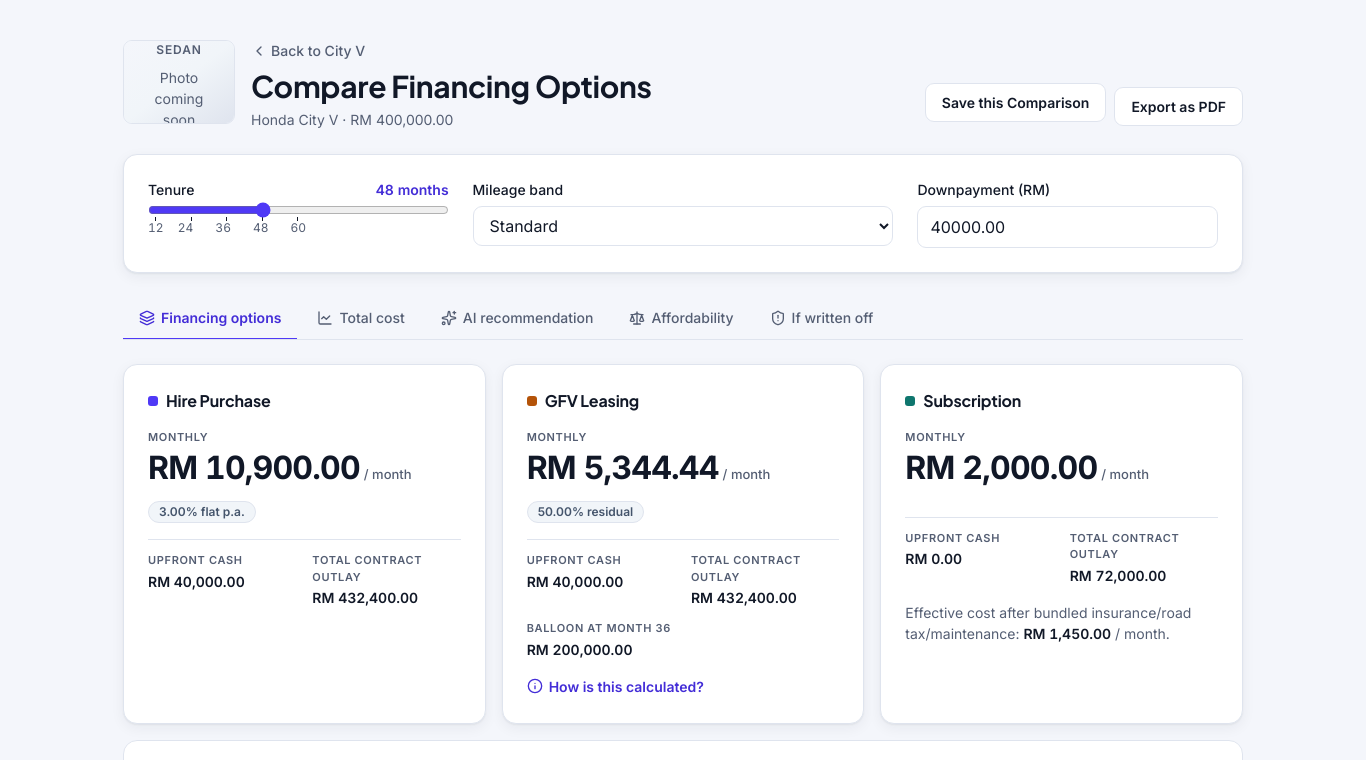
Test: ComparisonPage › TCO Breakdown & Depreciation tab › shows the TCO summary figures, correctly formatted
Click the tab "Total cost".
click(361, 318)  # box [301, 297, 421, 340]
(page scrolled)
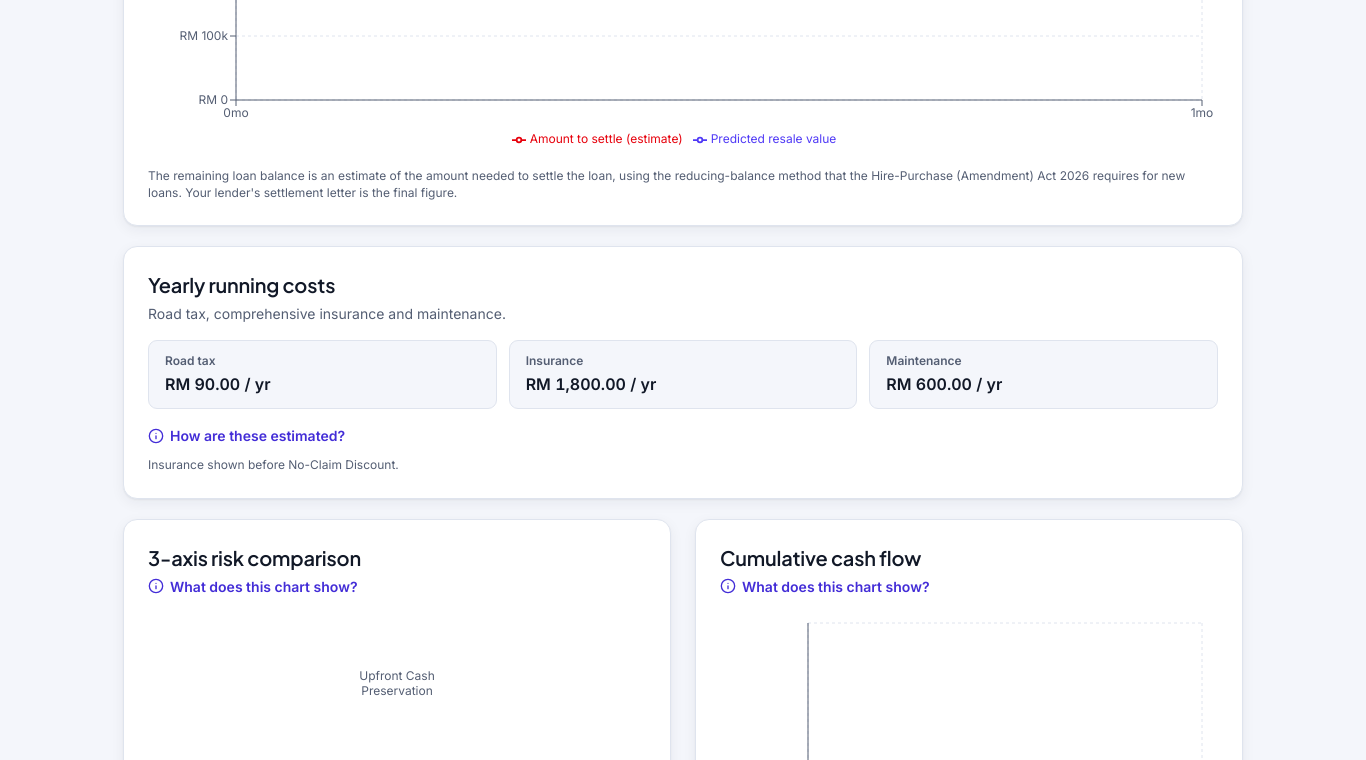
expect the text "RM 90.00 / yr" is shown: met, box [165, 374, 271, 394]
expect the text "RM 1,800.00 / yr" is shown: met, box [526, 374, 656, 394]
expect the text "RM 600.00 / yr" is shown: met, box [886, 374, 1002, 394]
